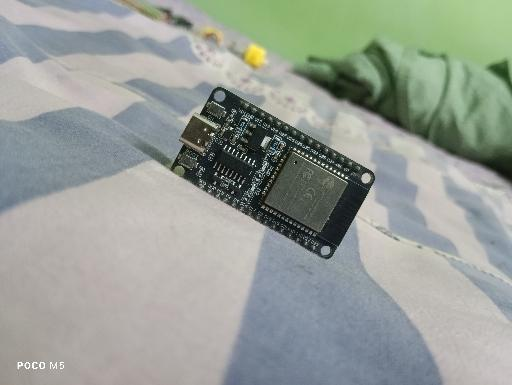Esp32: (170, 86, 375, 260)
